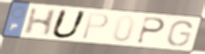0: (111, 14, 137, 44)
G: (165, 19, 194, 48)
H: (22, 7, 59, 37)
P: (135, 16, 167, 46), (80, 12, 111, 41)
U: (49, 8, 89, 40)
